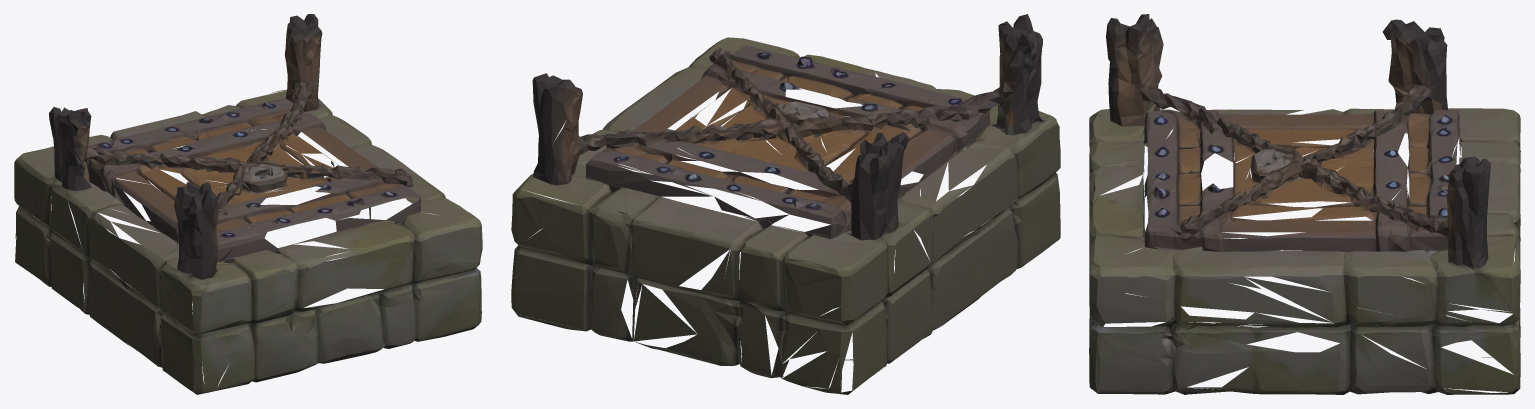
File: cellar_hatch.glb
3 views of the same model, side by side, from view 1: azimuth 30°, elevation 25°; view 2: azimuth 150°, elevation 25°; view 3: azimuth 270°, elevation 25° (orthographic). The views are drawn at different scales.
Parts seen in each view (by area): view 1: geometry_0; view 2: geometry_0; view 3: geometry_0.
Boxes of the visible parts, x1,y1,x2,y2 form: geometry_0: (14,14,482,394); geometry_0: (511,14,1060,394); geometry_0: (1089,14,1520,394).
Bounding box in the file's own units: 1.99 × 1.29 × 2.2.
Materials: 1 (1 with a texture image).
